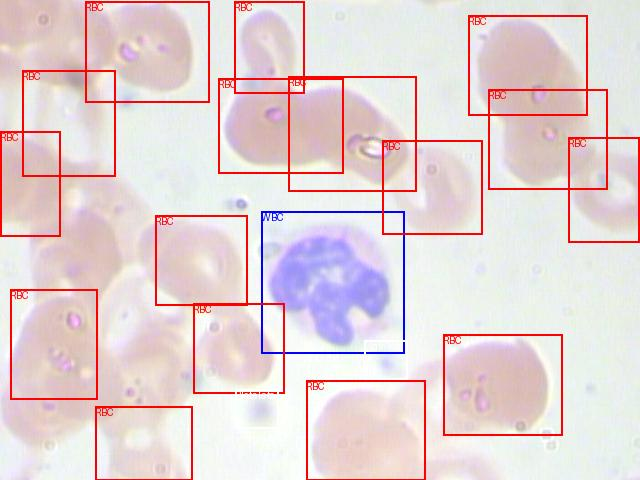Platelets: (235, 389, 278, 428), (364, 340, 407, 379)
RBC: (288, 76, 416, 191), (85, 1, 209, 102), (443, 334, 562, 435), (488, 89, 607, 189), (468, 15, 587, 115), (306, 380, 425, 480), (218, 78, 343, 173), (22, 70, 115, 176), (10, 289, 97, 399), (382, 140, 482, 234), (155, 215, 247, 305), (193, 303, 284, 393), (568, 137, 639, 242), (95, 406, 192, 480), (234, 1, 304, 93), (0, 131, 60, 236)
WBC: (261, 211, 404, 353)
